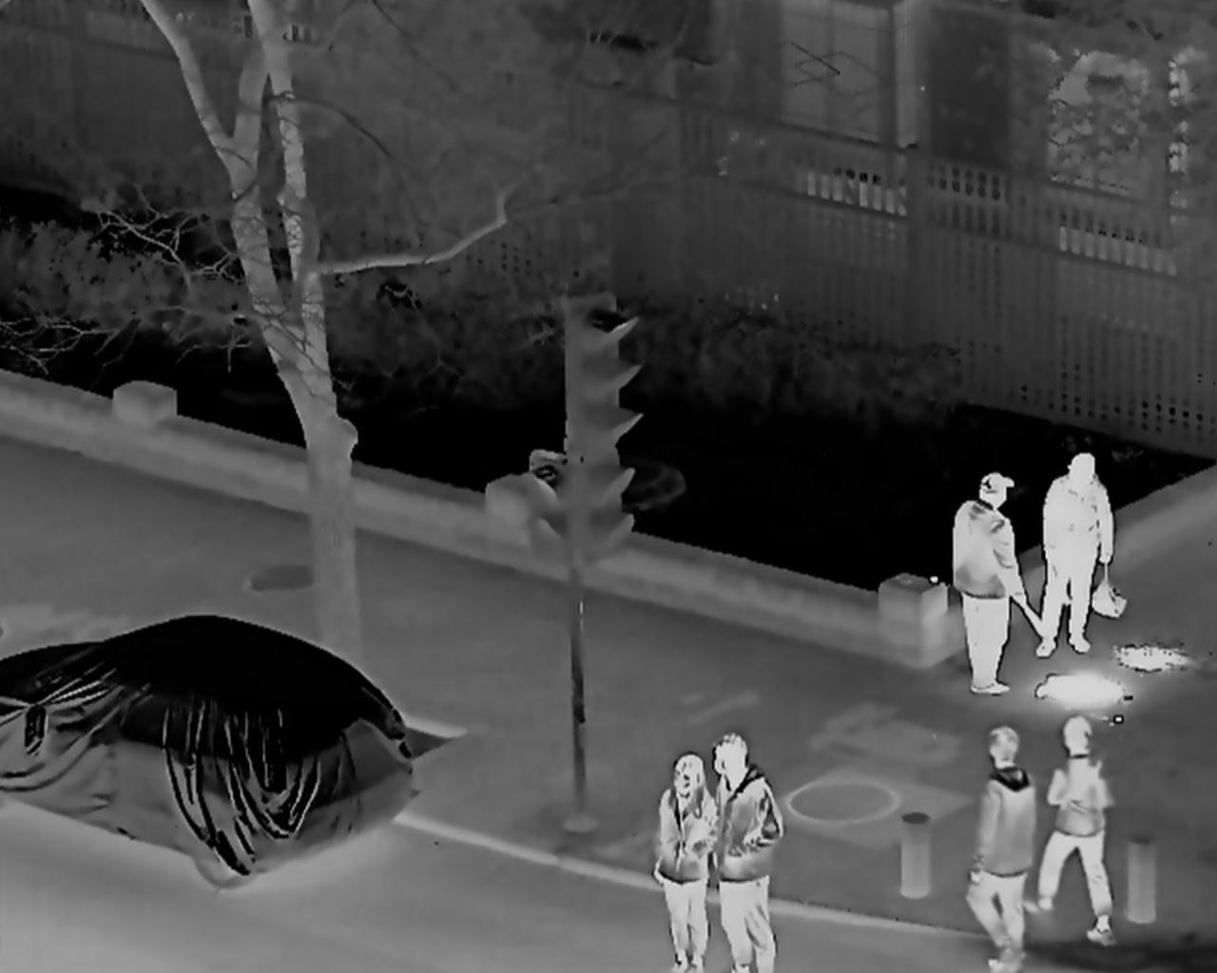person: (1034, 716, 1119, 945), (953, 473, 1024, 703), (1039, 453, 1116, 661), (963, 727, 1028, 973), (711, 738, 777, 973), (648, 752, 707, 971)
